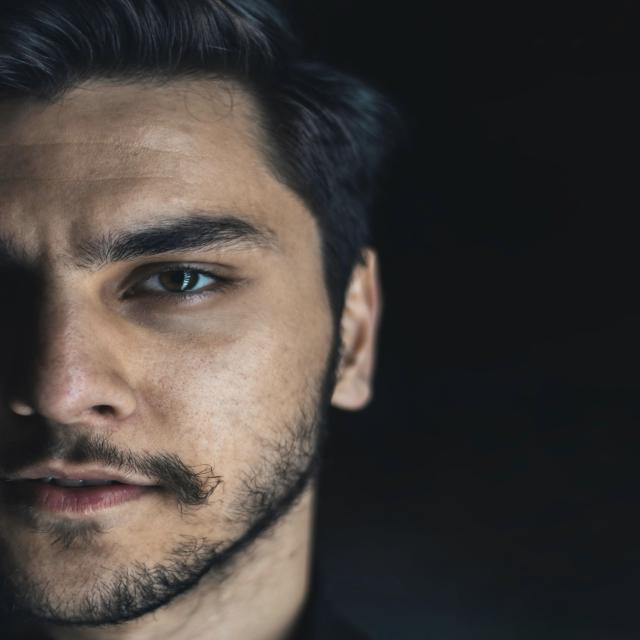adult: (0, 4, 449, 640)
